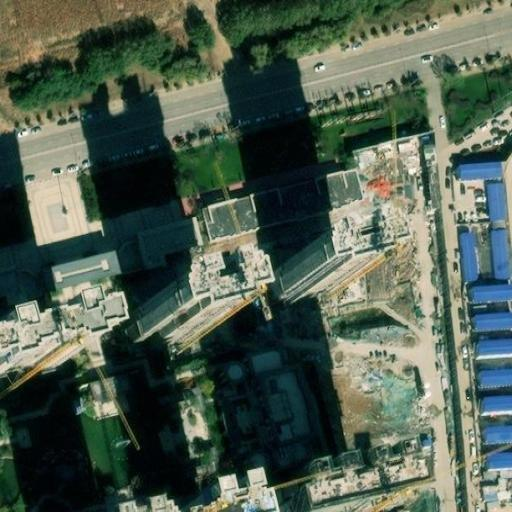building: (205, 169, 360, 241), (0, 322, 83, 383), (132, 290, 218, 348), (271, 248, 357, 306), (49, 248, 121, 294), (138, 218, 202, 269), (347, 486, 402, 512), (490, 228, 512, 279), (459, 233, 477, 280), (481, 478, 511, 505), (485, 182, 507, 218), (474, 311, 512, 331), (471, 283, 512, 301), (480, 368, 512, 390), (461, 163, 501, 180), (479, 338, 512, 354), (486, 425, 512, 444), (485, 394, 512, 412), (0, 270, 17, 294), (487, 451, 512, 467), (225, 495, 245, 512)
